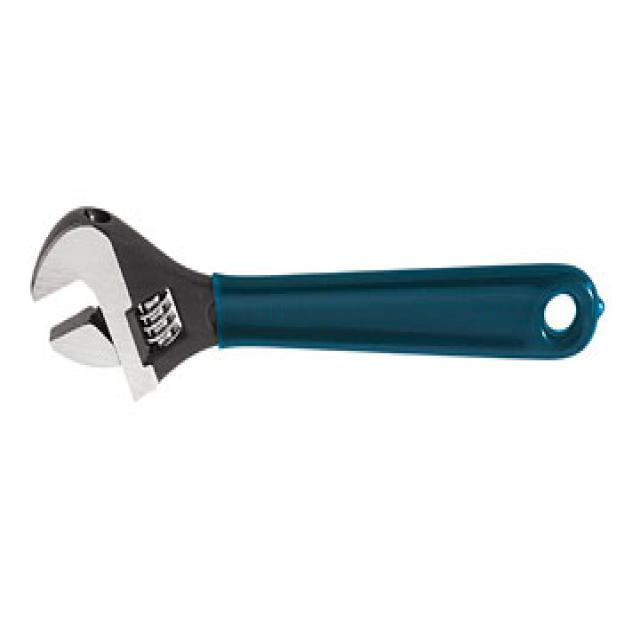wrench: (22, 198, 610, 414)
